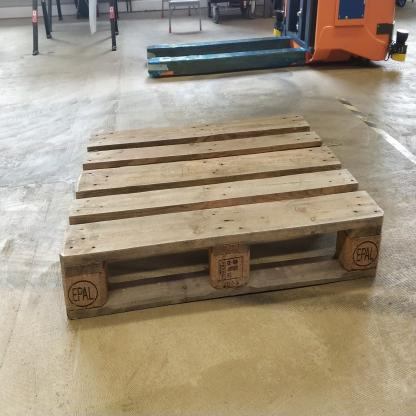BoxFace: (45, 110, 389, 324)
